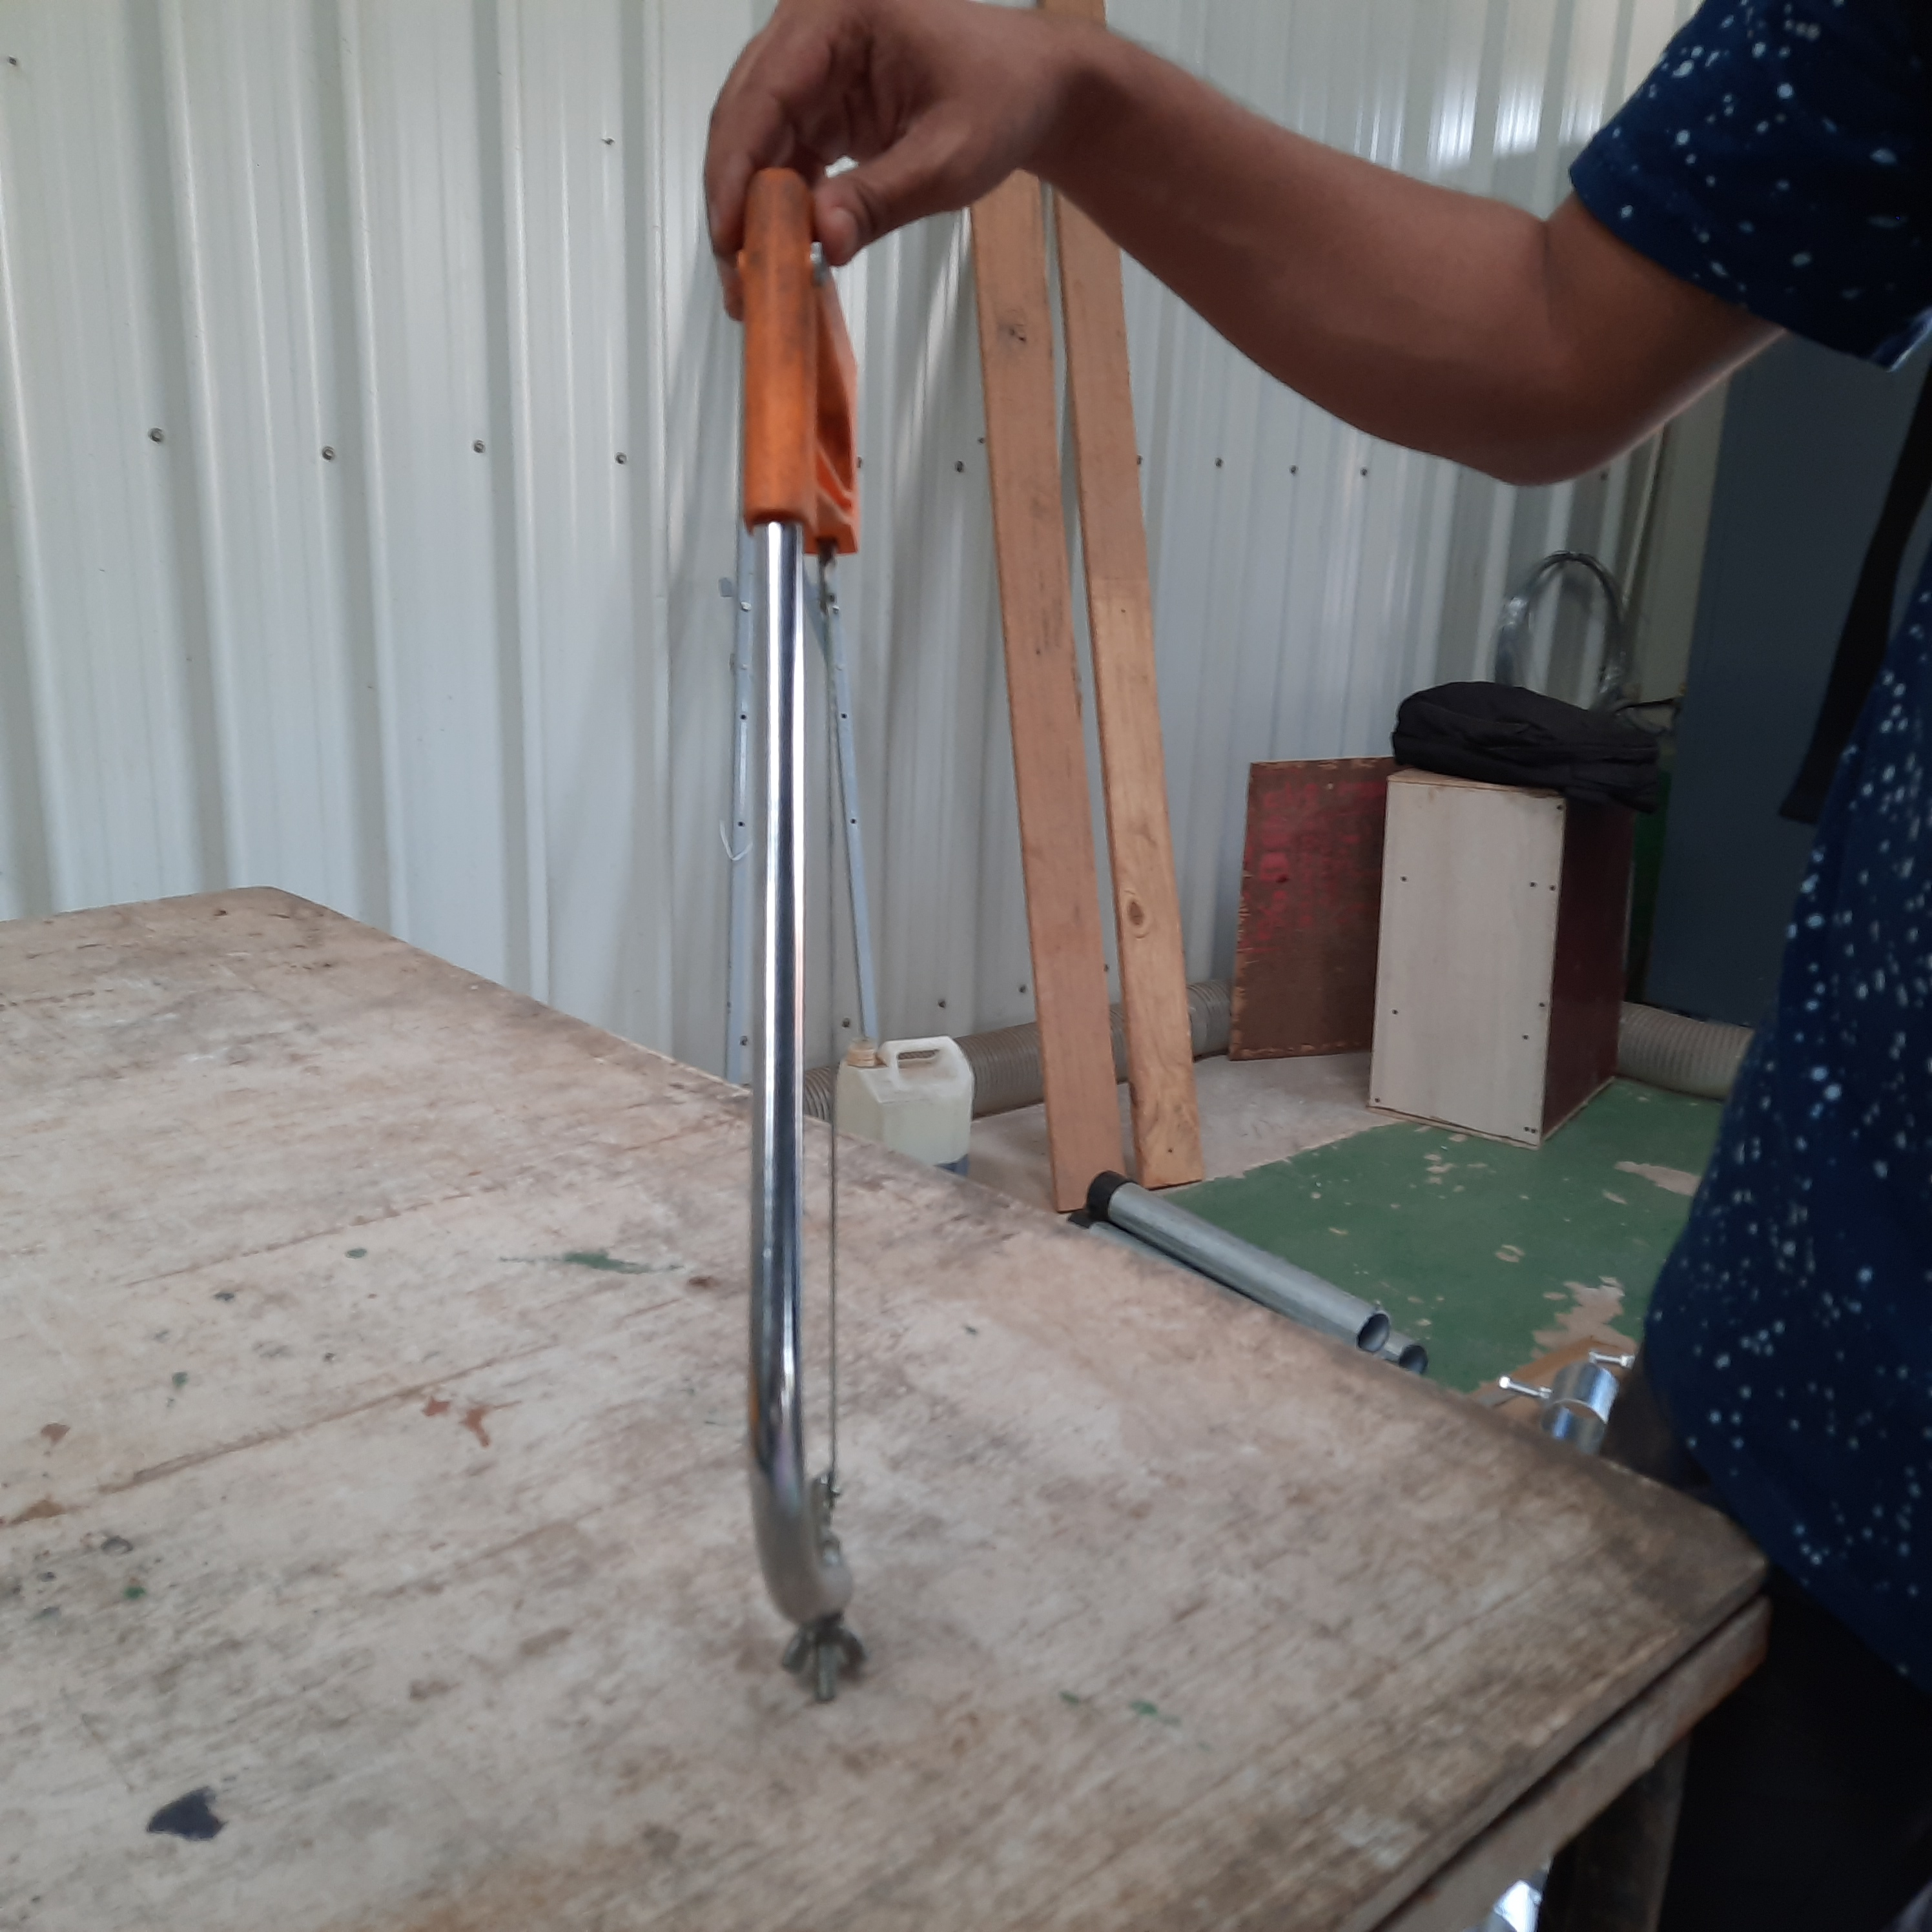Hexaframe: (662, 159, 1001, 1723)
